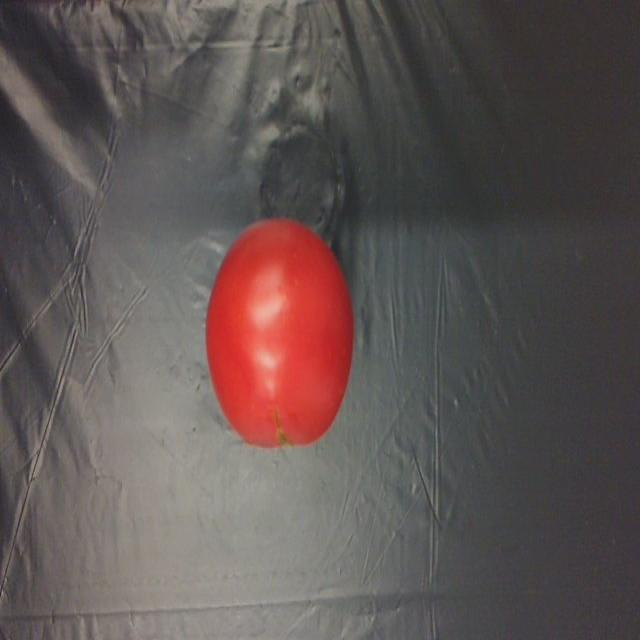kirmizi: (210, 215, 360, 450)
